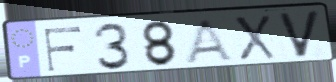3: (91, 21, 132, 72)
8: (139, 19, 180, 68)
A: (182, 17, 237, 64)
F: (42, 25, 84, 74)
V: (275, 9, 323, 61)
X: (231, 14, 278, 62)
